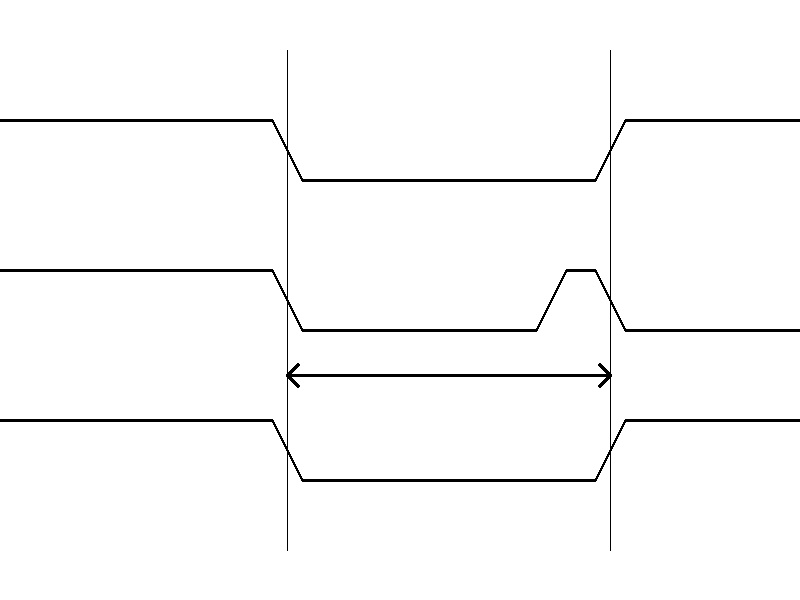double_arrow: (287, 360, 610, 390)
